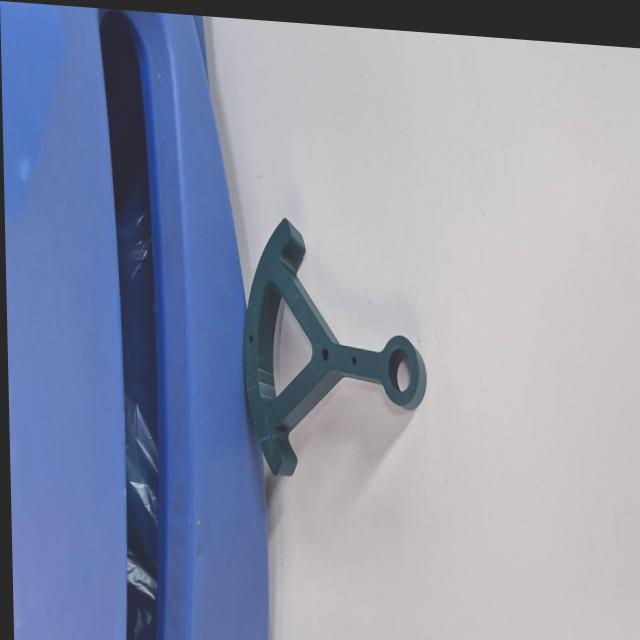haptic: (239, 210, 431, 489)
